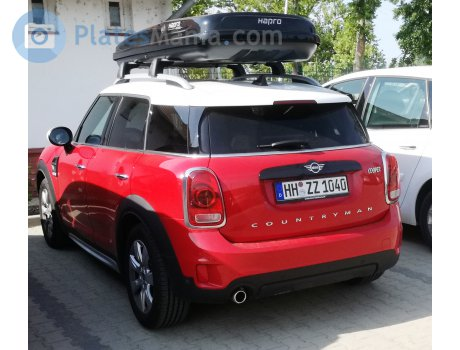License Plates: (283, 179, 347, 194)
